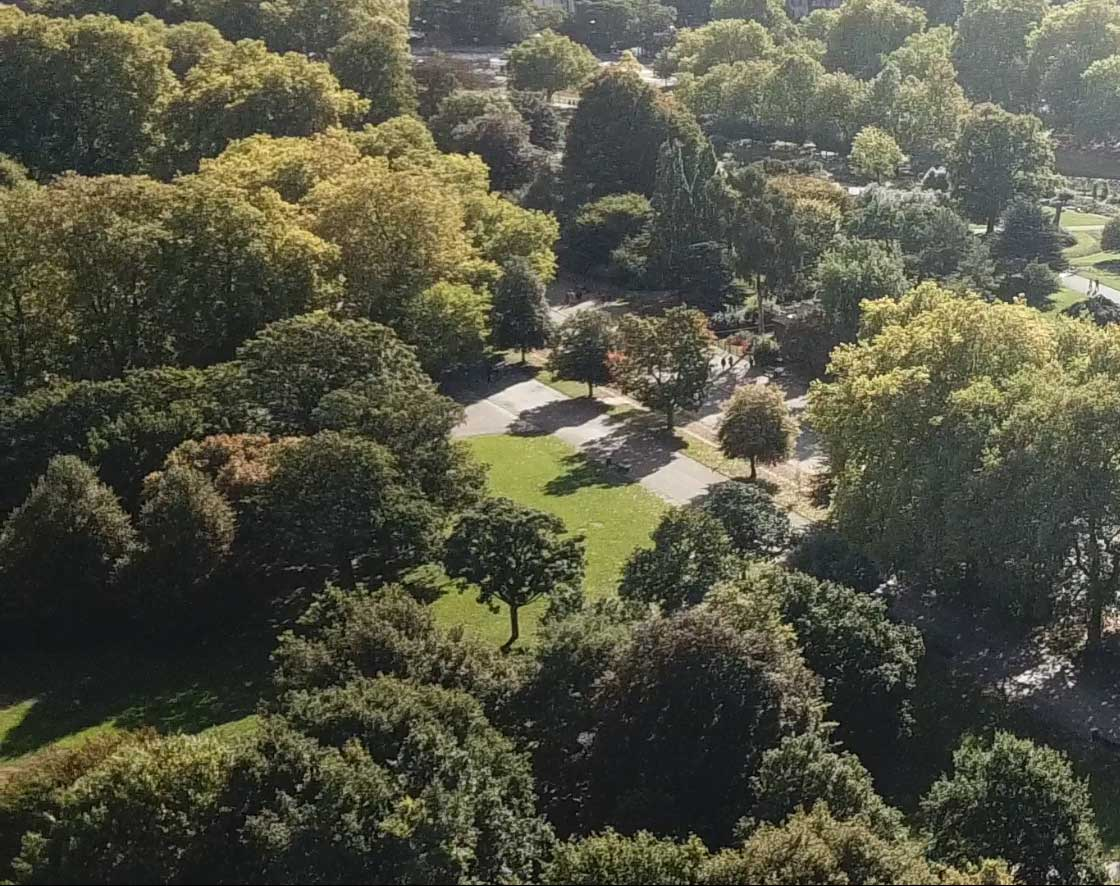tree: (435, 495, 597, 650), (946, 93, 1053, 263), (708, 362, 826, 493), (613, 304, 719, 438), (536, 306, 637, 412), (472, 268, 560, 367)
trees: (2, 12, 948, 263), (19, 108, 412, 599)
